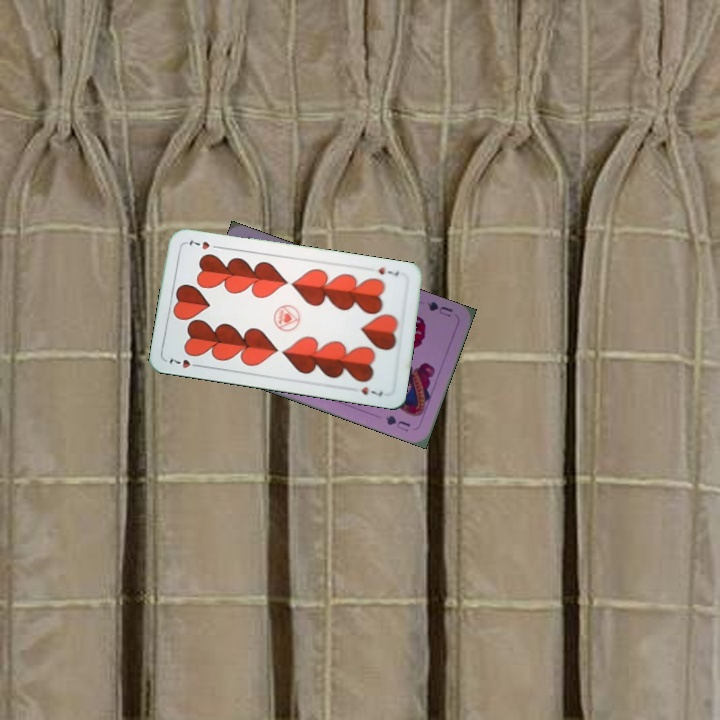GU: (423, 297, 455, 320)
H7: (165, 354, 204, 371), (374, 263, 402, 279)
